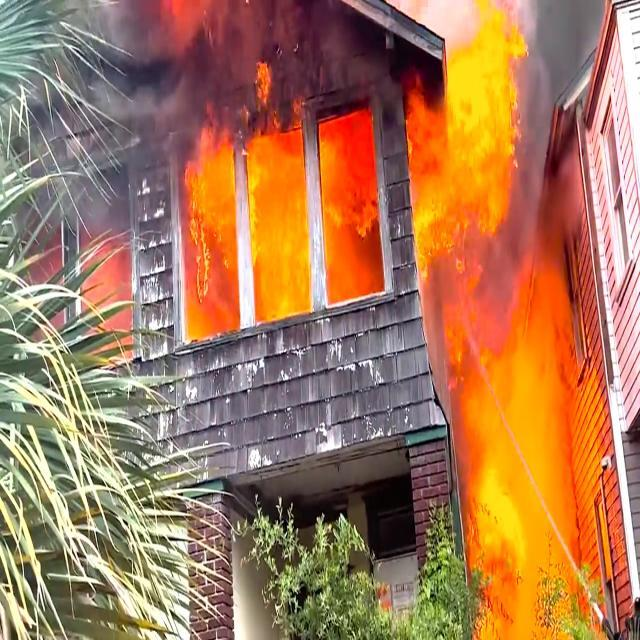Fire: (413, 0, 582, 640), (178, 132, 238, 356), (253, 140, 315, 311), (320, 118, 382, 282)
Smoke: (46, 0, 323, 96)
